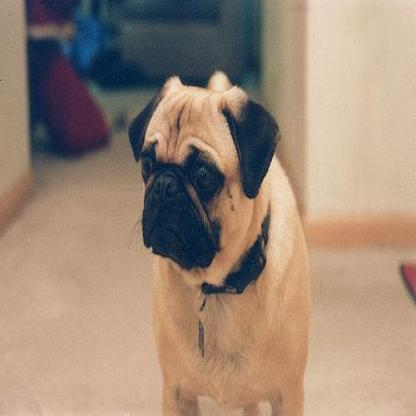pug: (119, 62, 316, 414)
